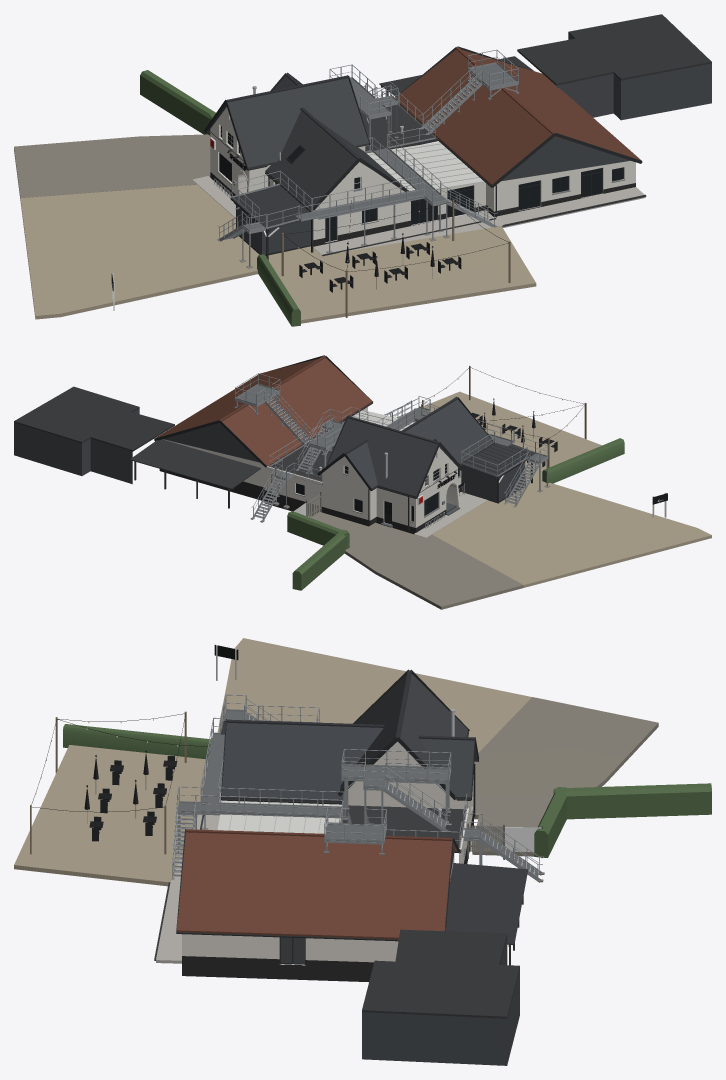
The model's file is sparrenhof.glb.
3 renders of one model, top to bottom at view 1: azimuth 30°, elevation 25°; view 2: azimuth 150°, elevation 25°; view 3: azimuth 270°, elevation 25°, orthographic. The views are drawn at different scales.
Parts seen in each view (by area): view 1: caf_gravel, caf_fittings, caf_hall_roof, caf_roof, caf_setts, caf_boards, caf_wall, caf_slabs, caf_glass, caf_hedge, caf_plinth; view 2: caf_fittings, caf_gravel, caf_hall_roof, caf_setts, caf_roof, caf_boards, caf_wall, caf_hedge, caf_plinth, caf_slabs, caf_glass; view 3: caf_fittings, caf_gravel, caf_hall_roof, caf_roof, caf_setts, caf_hedge, caf_boards, caf_wall, caf_plinth, caf_slabs.
Boxes of the visible parts, x1=… form: caf_gravel: x1=20, y1=184, x2=536, y2=323; caf_fittings: x1=111, y1=14, x2=711, y2=317; caf_hall_roof: x1=395, y1=49, x2=641, y2=184; caf_roof: x1=207, y1=76, x2=406, y2=210; caf_setts: x1=14, y1=134, x2=210, y2=200; caf_boards: x1=237, y1=33, x2=711, y2=254; caf_wall: x1=210, y1=107, x2=635, y2=240; caf_slabs: x1=192, y1=176, x2=645, y2=255; caf_glass: x1=219, y1=126, x2=623, y2=241; caf_hedge: x1=140, y1=70, x2=300, y2=326; caf_plinth: x1=210, y1=172, x2=635, y2=246; caf_fittings: x1=14, y1=355, x2=667, y2=531; caf_gravel: x1=396, y1=391, x2=711, y2=587; caf_hall_roof: x1=155, y1=358, x2=372, y2=466; caf_setts: x1=310, y1=512, x2=523, y2=609; caf_roof: x1=327, y1=399, x2=493, y2=497; caf_boards: x1=14, y1=408, x2=525, y2=501; caf_wall: x1=163, y1=407, x2=461, y2=527; caf_hedge: x1=287, y1=438, x2=624, y2=590; caf_plinth: x1=159, y1=469, x2=461, y2=534; caf_slabs: x1=414, y1=492, x2=487, y2=537; caf_glass: x1=296, y1=439, x2=459, y2=520; caf_fittings: x1=30, y1=644, x2=544, y2=1018; caf_gravel: x1=14, y1=638, x2=531, y2=886; caf_hall_roof: x1=176, y1=832, x2=457, y2=939; caf_roof: x1=221, y1=674, x2=477, y2=802; caf_setts: x1=472, y1=697, x2=658, y2=856; caf_hedge: x1=63, y1=724, x2=711, y2=857; caf_boards: x1=362, y1=849, x2=519, y2=1065; caf_wall: x1=182, y1=741, x2=473, y2=962; caf_plinth: x1=182, y1=811, x2=473, y2=981; caf_slabs: x1=156, y1=792, x2=222, y2=963.
Size of the model in its own units: 61.73 by 8.45 by 42.7.
